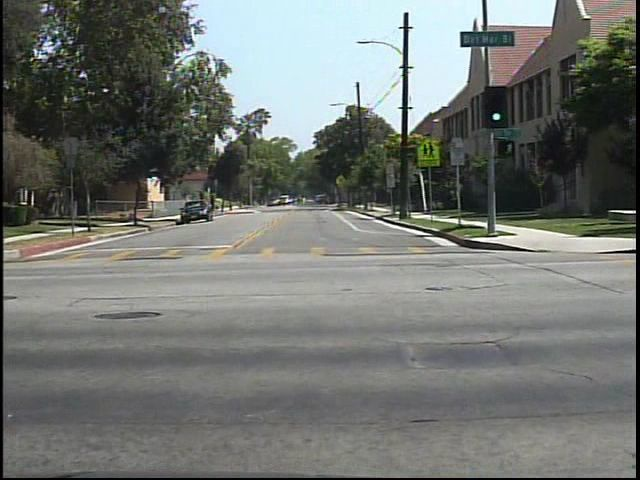person: (294, 191, 309, 208)
